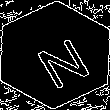N_NW: (21, 23, 89, 87)
